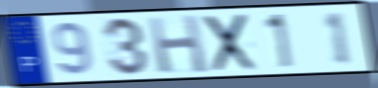1: (263, 12, 296, 70), (324, 10, 352, 68)
3: (101, 15, 150, 78)
9: (50, 19, 95, 77)
H: (146, 13, 211, 75)
X: (203, 11, 258, 74)
